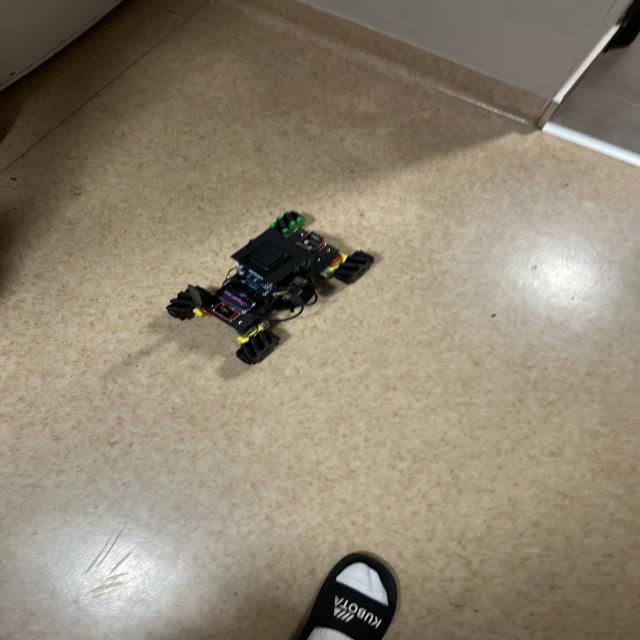robot: (166, 211, 374, 364)
